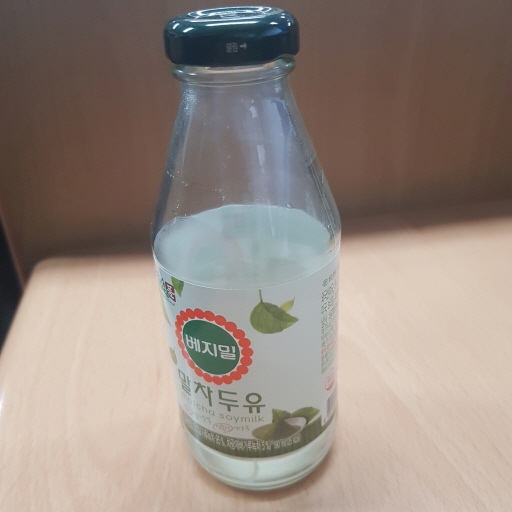Glass_4: (149, 9, 343, 493)
